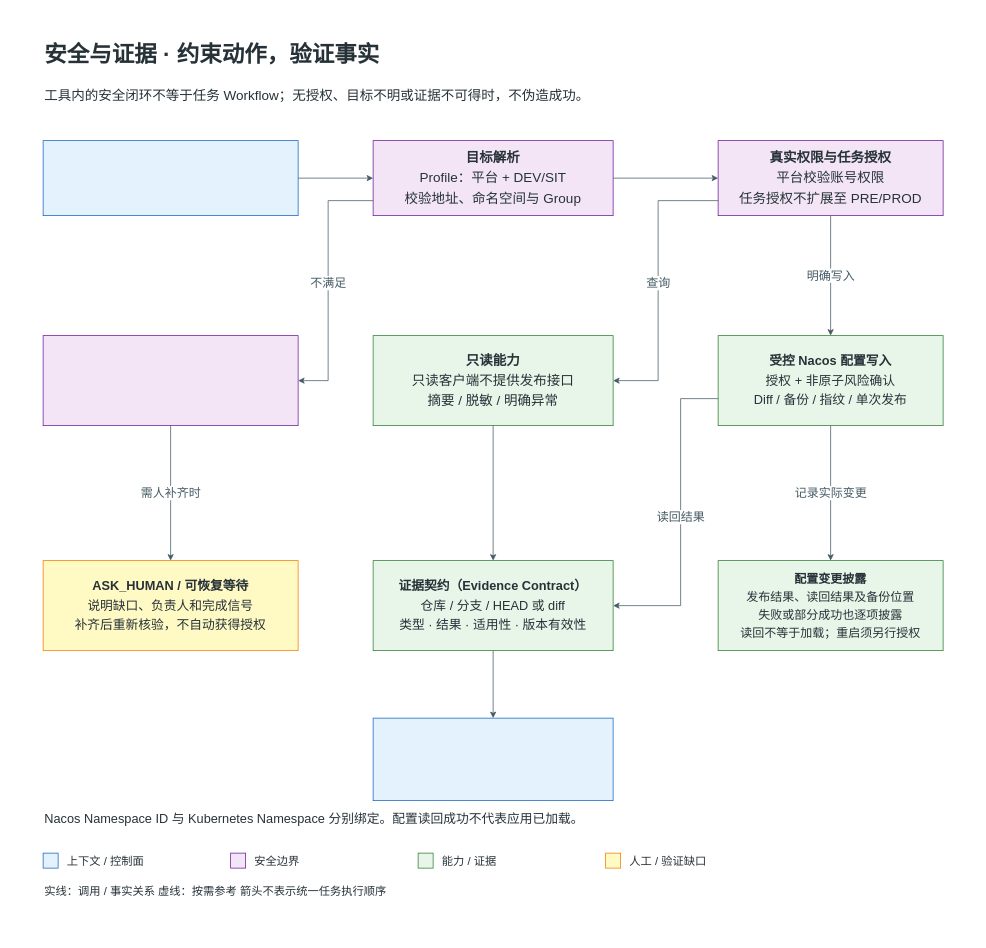
Some shapes in this 986 by 948 pixel diagram are drawn without their labels. The shapes that lost their labels are listed below. From the top down, each one's box as (x1, y1, x2, y2) in pixels, then its label:
(42, 140, 298, 216): 用户范围与授权 查询 ≠ 写入；Git push ≠ 部署授权
(42, 335, 298, 426): 不满足条件即停止 未知目标 / 漂移 / 无授权 不得回退或扩大范围
(372, 717, 613, 801): 确定性完成判定 PASS / CHANGES_REQUIRED / HUMAN_REQUIRED
